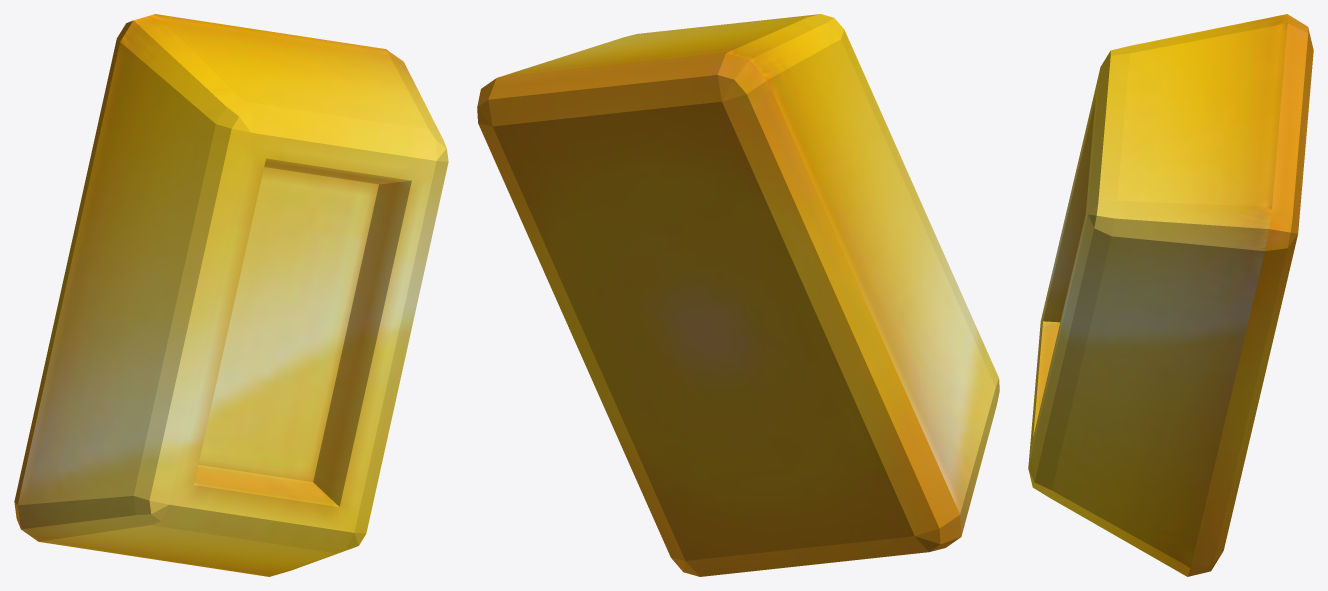
File: gold.FBX
The picture shows the model from 3 angles, left to right: view 1: azimuth 30°, elevation 25°; view 2: azimuth 150°, elevation 25°; view 3: azimuth 270°, elevation 25°; orthographic projection. The views are drawn at different scales.
Parts seen in each view (by area): view 1: gold; view 2: gold; view 3: gold.
Boxes of the visible parts, <box> form: gold: <box>14,14,448,576</box>; gold: <box>477,14,999,576</box>; gold: <box>1028,14,1313,576</box>.
Bounding box in the file's own units: 503 × 621 × 311.
Materials: 1 (1 with a texture image).
